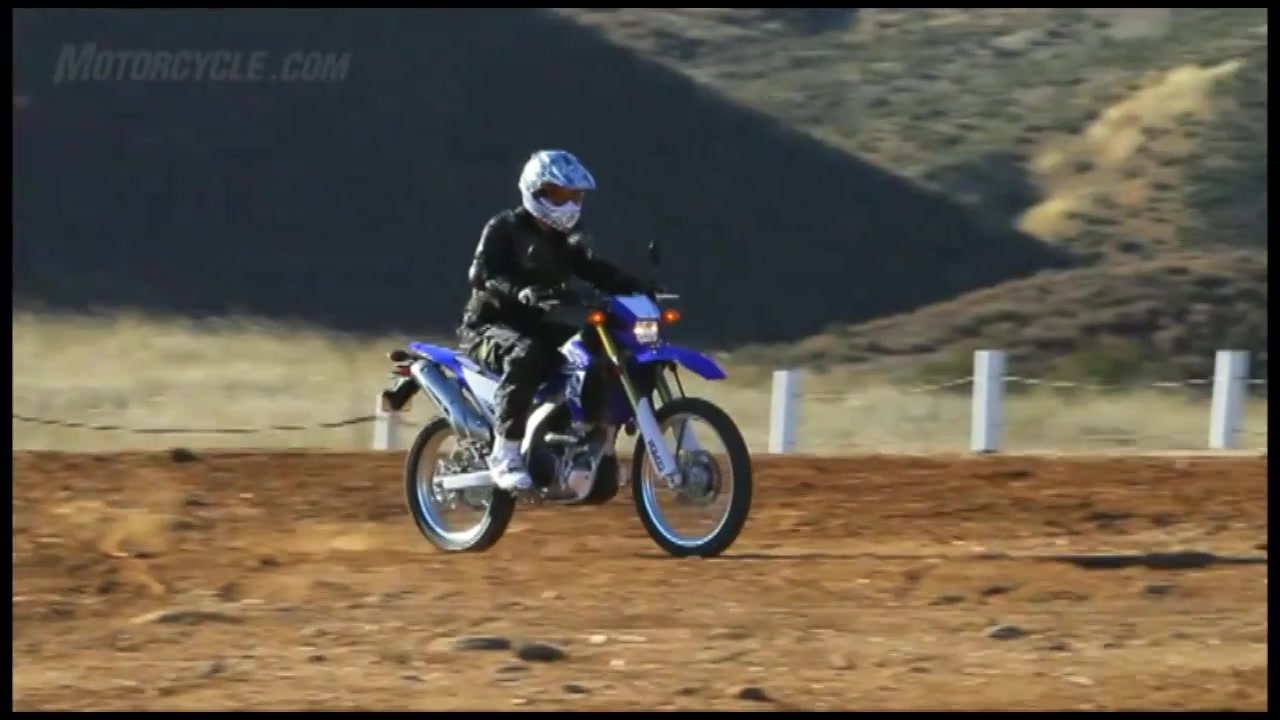motorbike: (383, 242, 756, 563)
